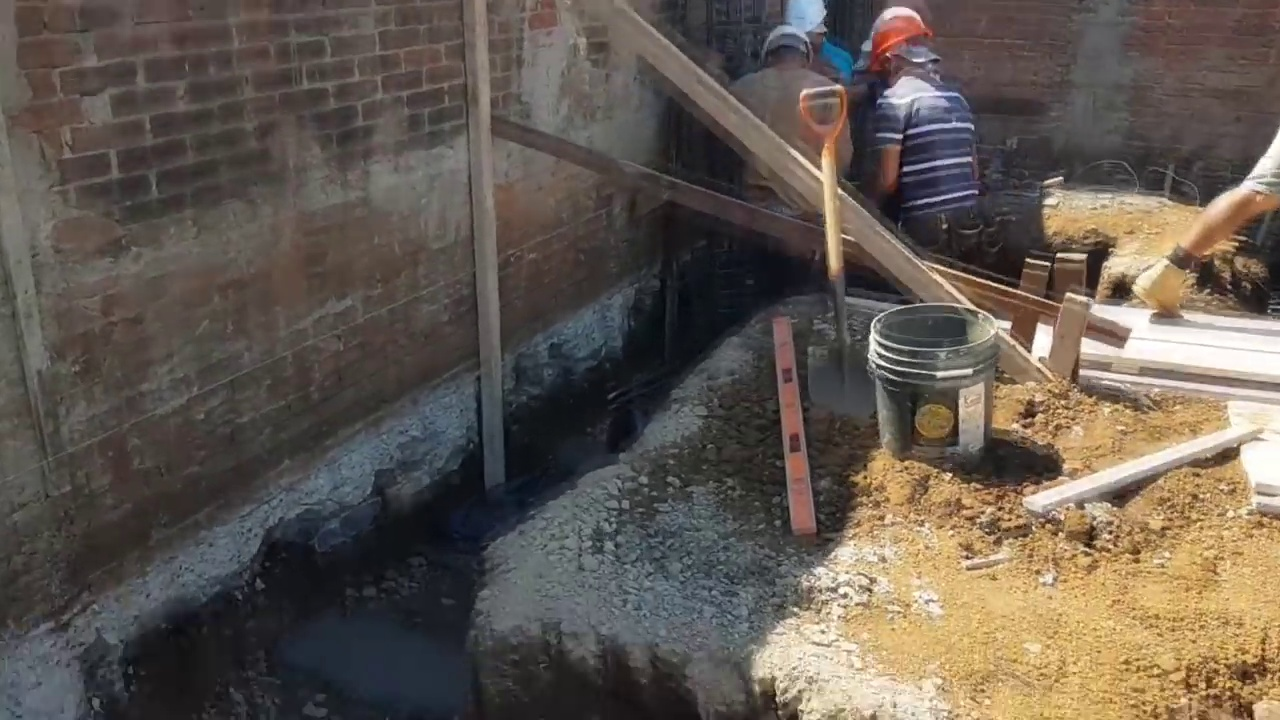helmet: (863, 9, 934, 65), (762, 25, 810, 62), (782, 0, 829, 31)
helmet-on: (865, 9, 944, 91), (783, 0, 829, 58), (760, 25, 813, 74)
person: (861, 10, 985, 258), (1132, 127, 1280, 319), (727, 26, 858, 228), (784, 1, 854, 88)
